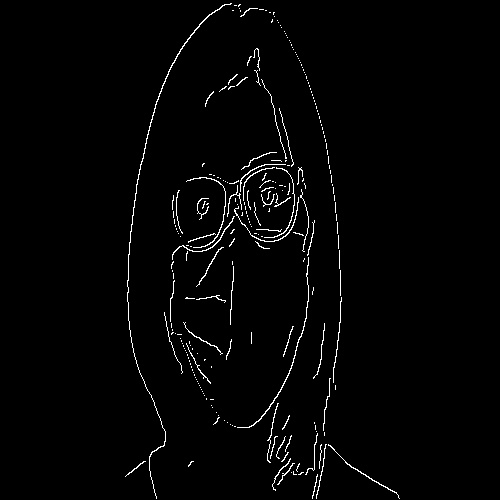mask: (164, 245, 313, 411)
